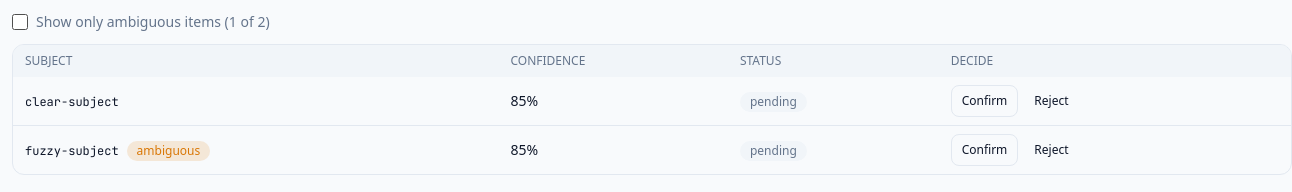
ReviewItemsSection › filters to only ambiguous items when the checkbox is toggled
This screenshot has width=1292, height=192.
expect the text "clear-subject" is shown: met, box [25,94,119,110]
expect the text "fuzzy-subject" is shown: met, box [25,142,119,158]
Click the checkbox labelled "Show only ambiguous items (1 of 2)".
click(20, 22)  # box [12,14,28,30]
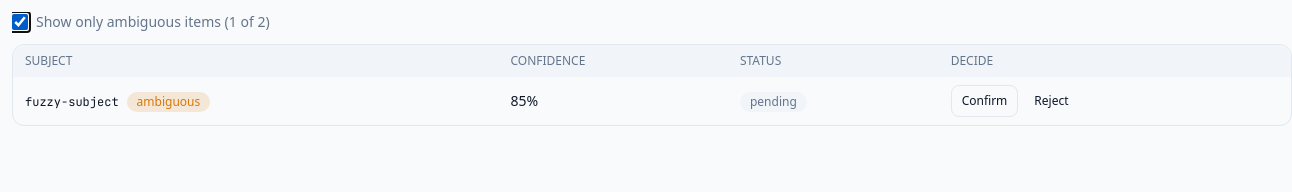
expect the text "fuzzy-subject" is shown: met, box [25,94,119,110]
expect the text "clear-subject" is gone: met
